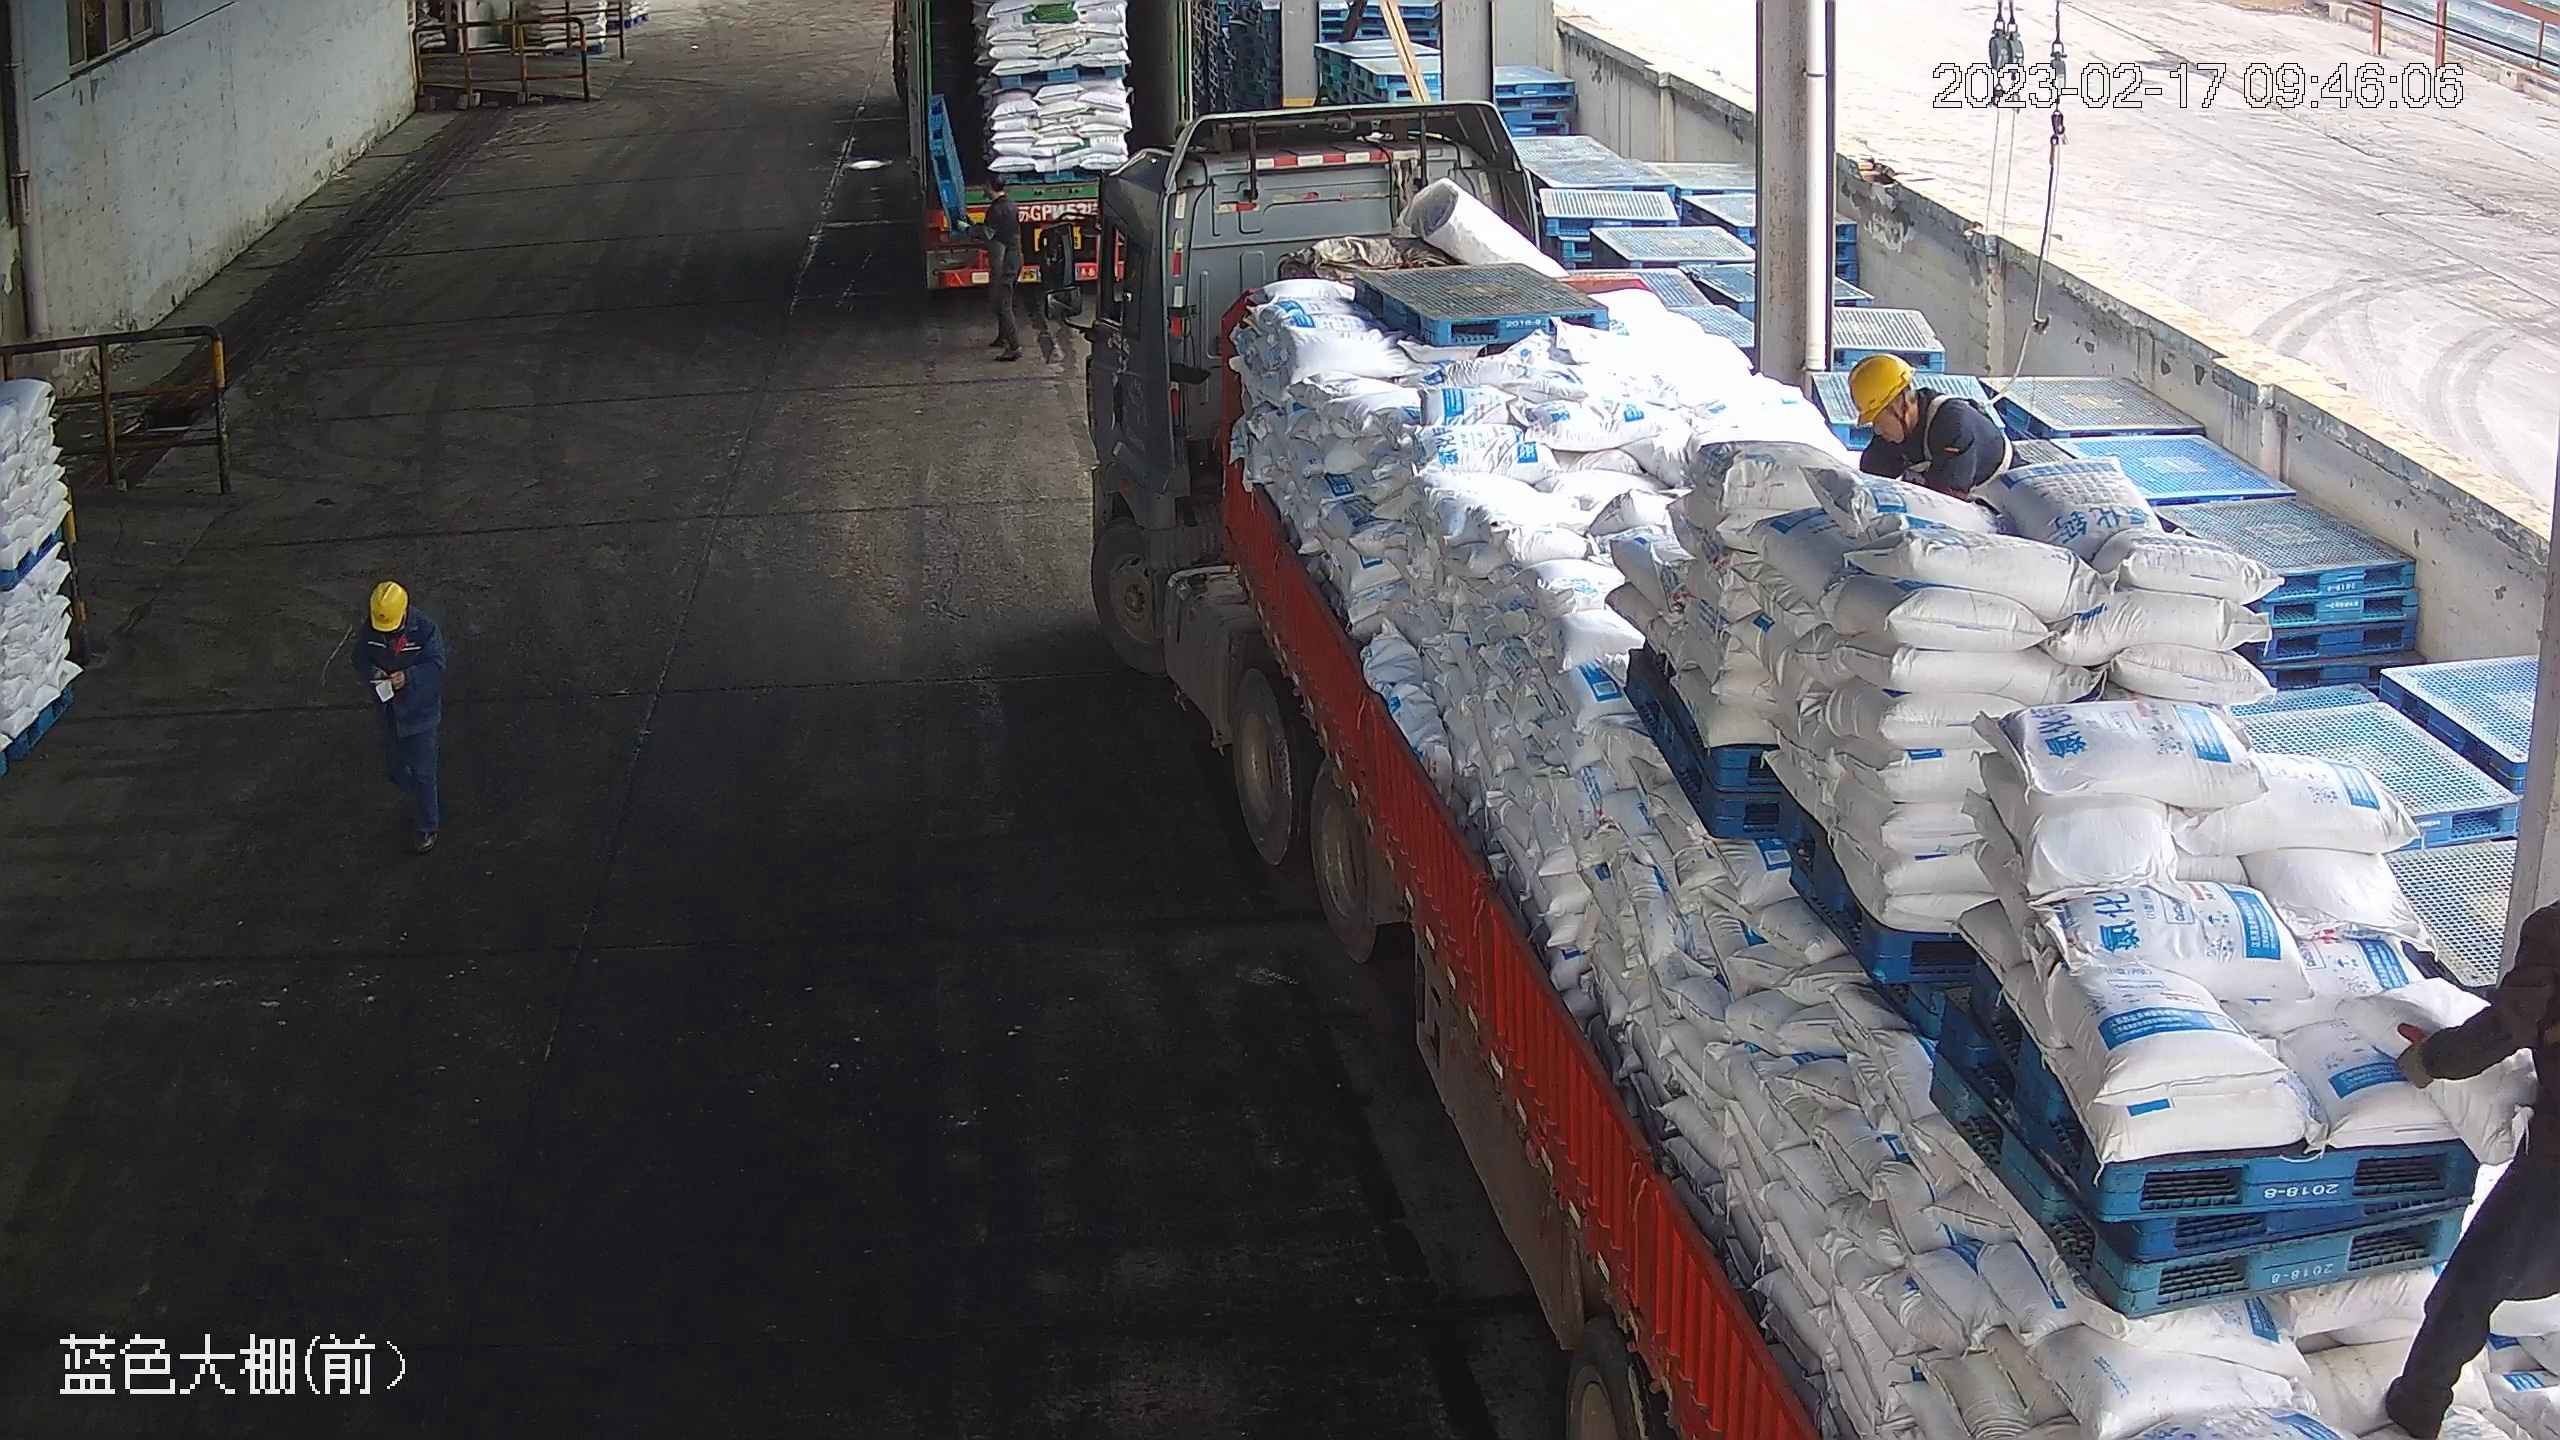belt: (1913, 395, 2009, 471)
head: (1846, 350, 1985, 463), (349, 580, 443, 667), (1844, 349, 1919, 425)
helmet: (349, 580, 443, 667), (1844, 350, 1917, 424), (366, 580, 409, 629)
people: (348, 581, 451, 851)
truck: (1074, 149, 2554, 1440), (896, 8, 1235, 312)
